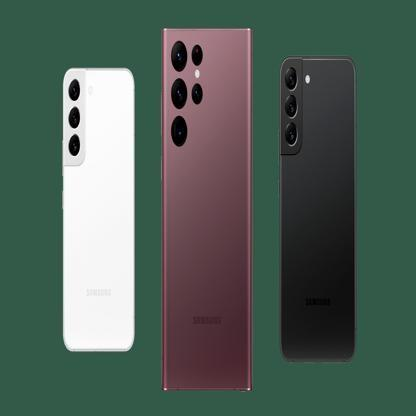not trash: (157, 25, 260, 399), (277, 49, 362, 367), (56, 66, 134, 354)
